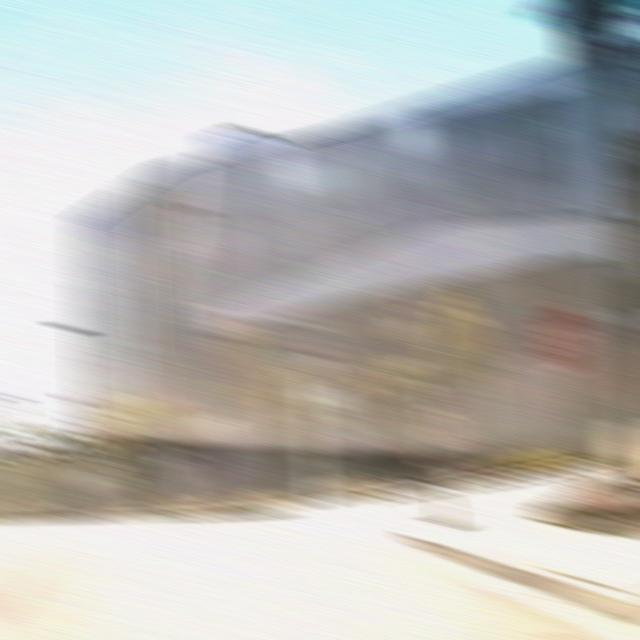stop_sign: (532, 303, 593, 372)
